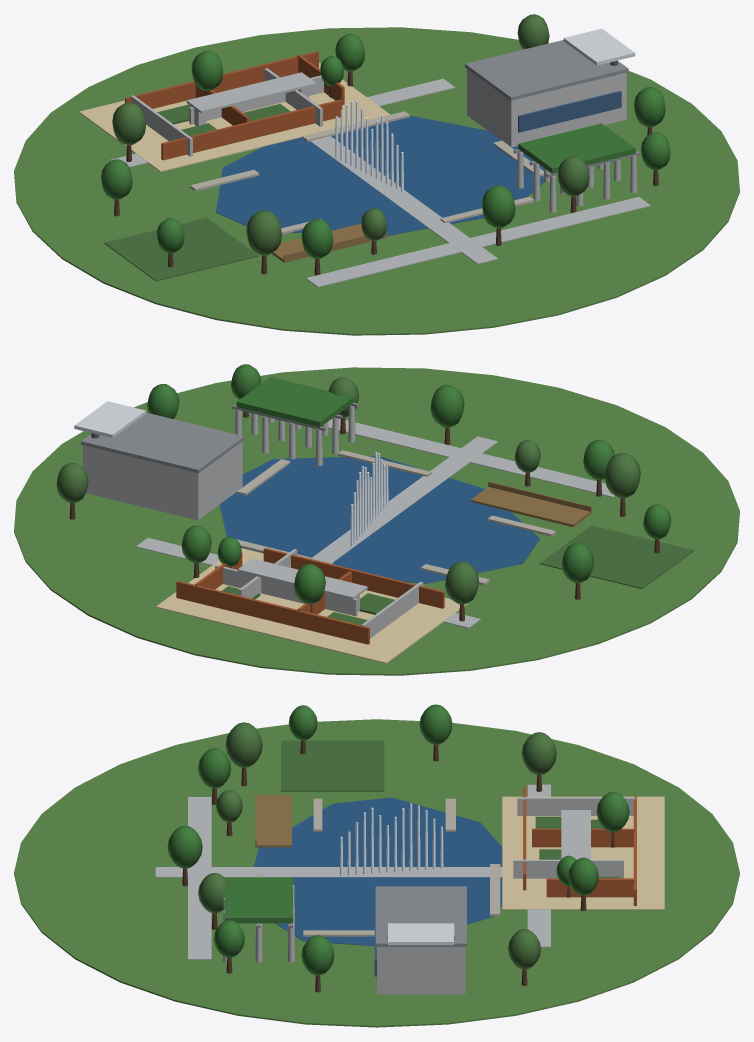
Rendered from seoseoul-lake-park.glb.
3 renders of one model, top to bottom at view 1: azimuth 30°, elevation 25°; view 2: azimuth 150°, elevation 25°; view 3: azimuth 270°, elevation 25°, orthographic.
Size of the model in its own units: 98.4 by 10.45 by 98.4.
